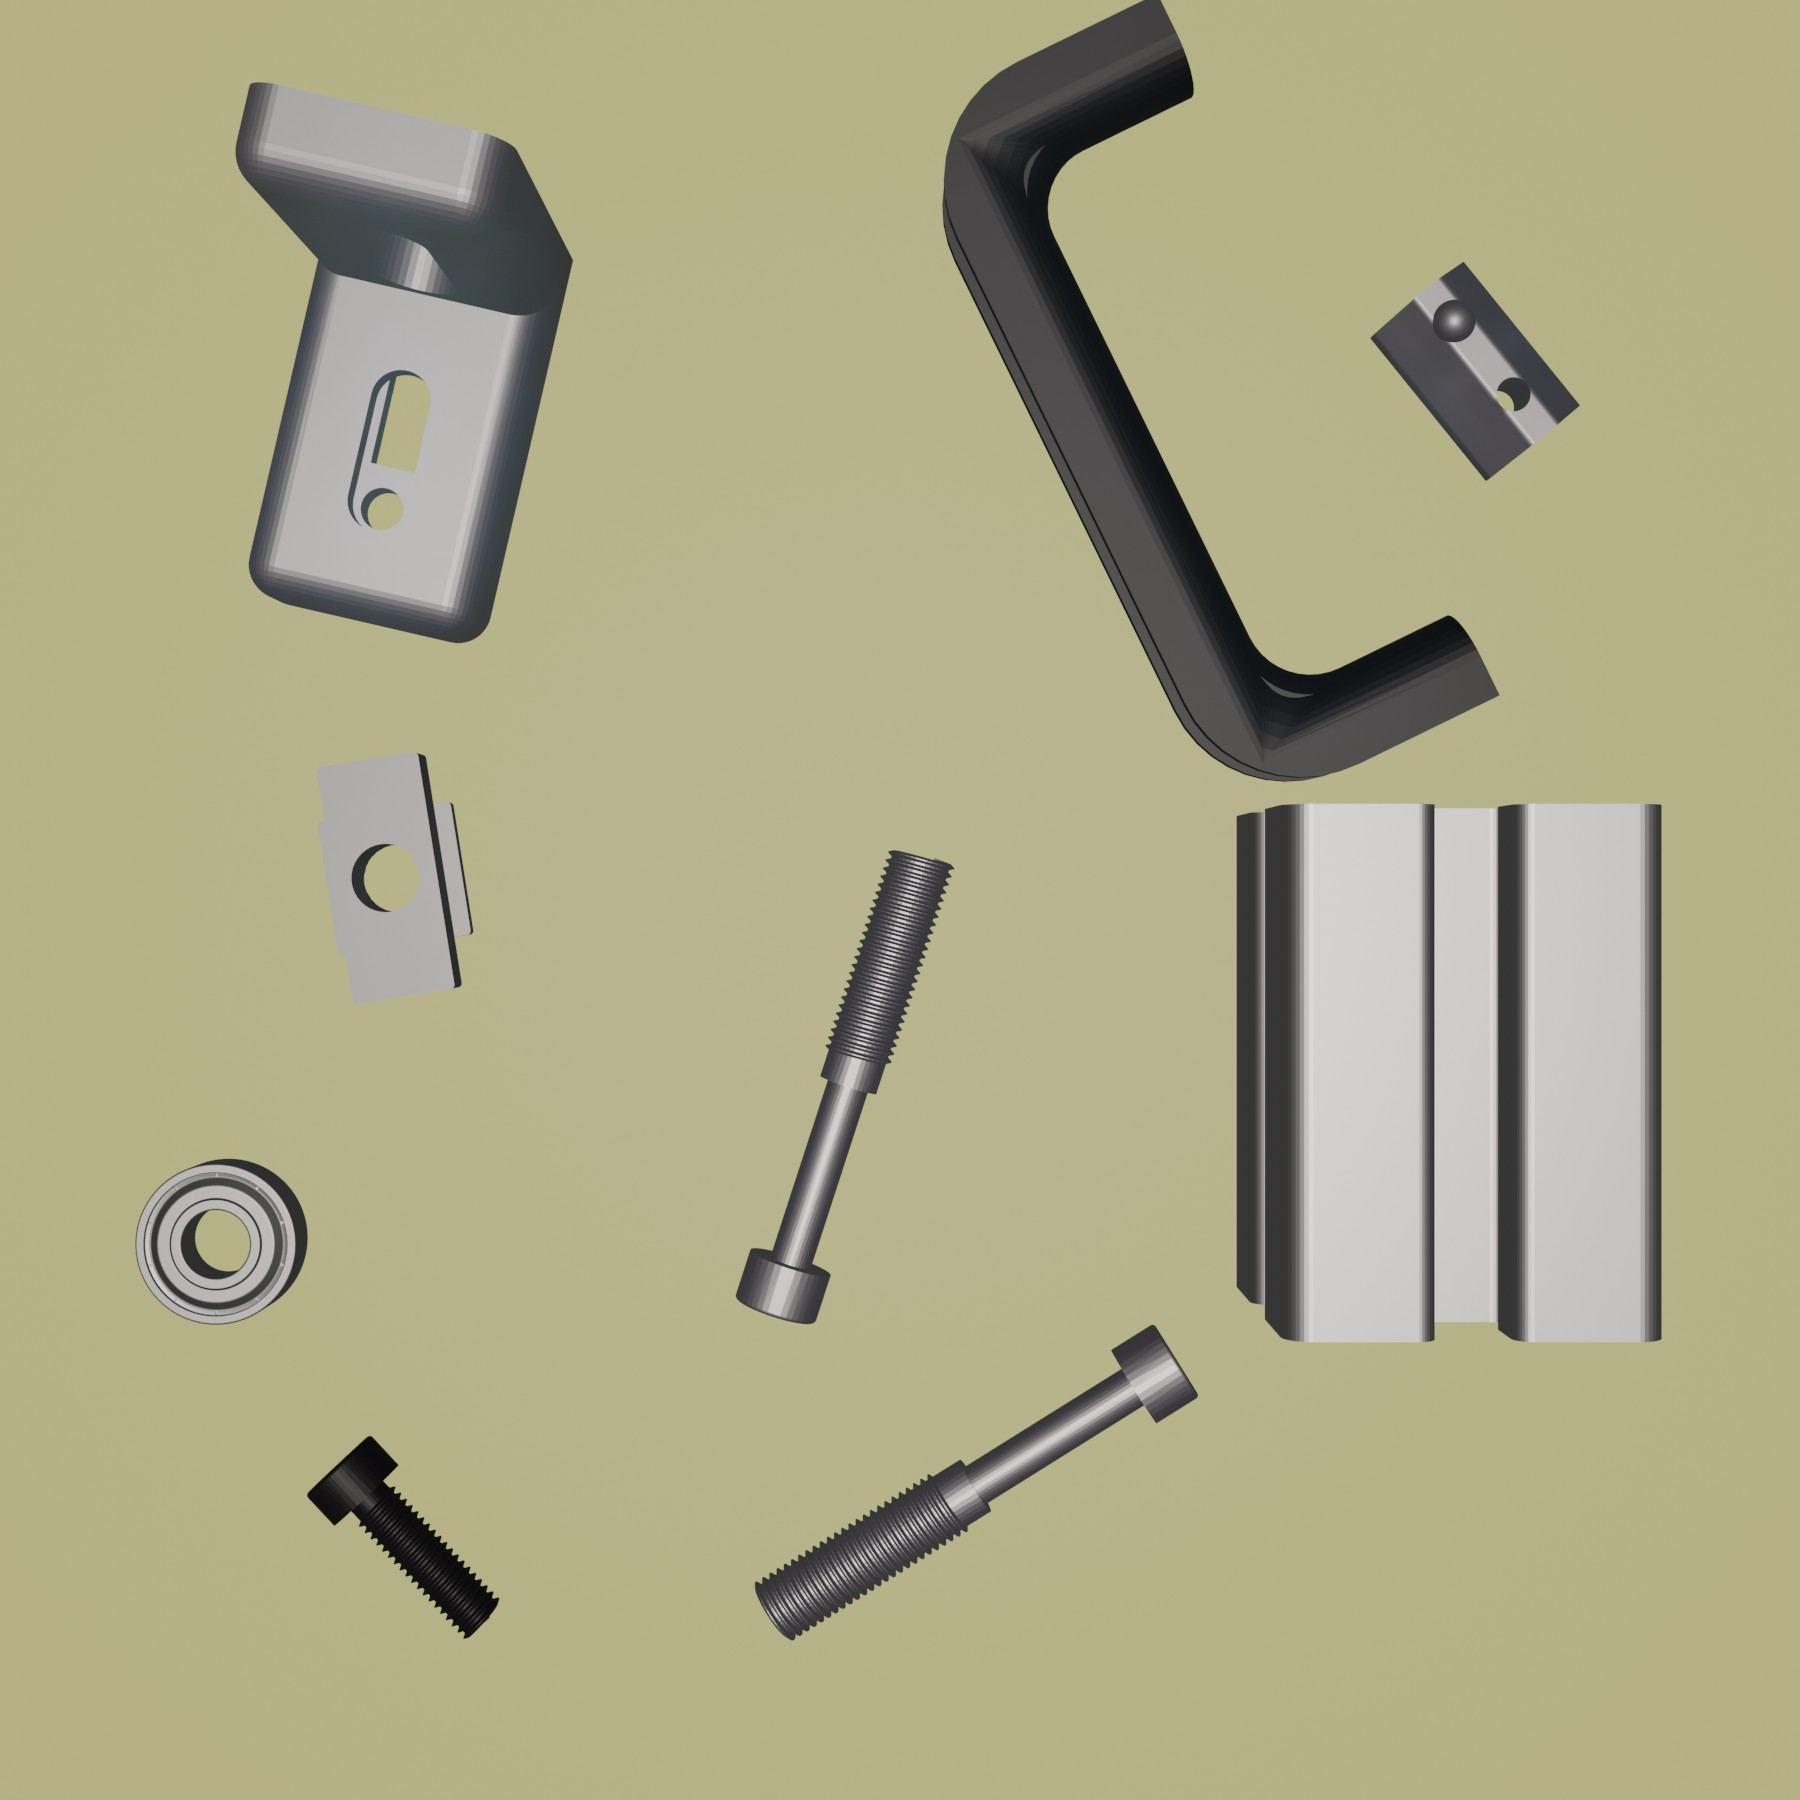Aluminium Extension: (1228, 793, 1670, 1352)
Ball Bearing: (132, 1154, 308, 1327)
Multiwinkel: (232, 77, 574, 645)
Pull Handle: (938, 2, 1502, 785)
Shoulder Socket Head Cap Screw: (752, 1319, 1200, 1643), (734, 846, 956, 1325)
Socket Head Cap Screw: (303, 1432, 499, 1642)
T Nut Square: (308, 747, 480, 1007)
T Spring Nut: (1366, 260, 1582, 485)
